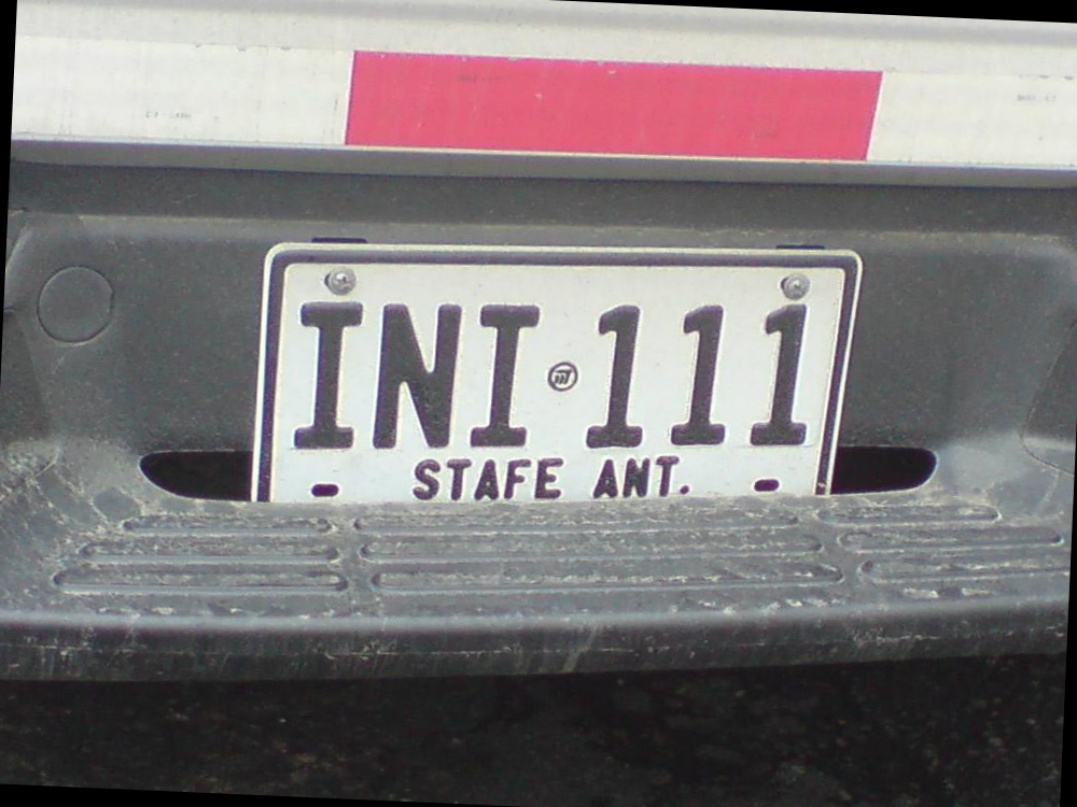placas: (246, 218, 866, 534)
